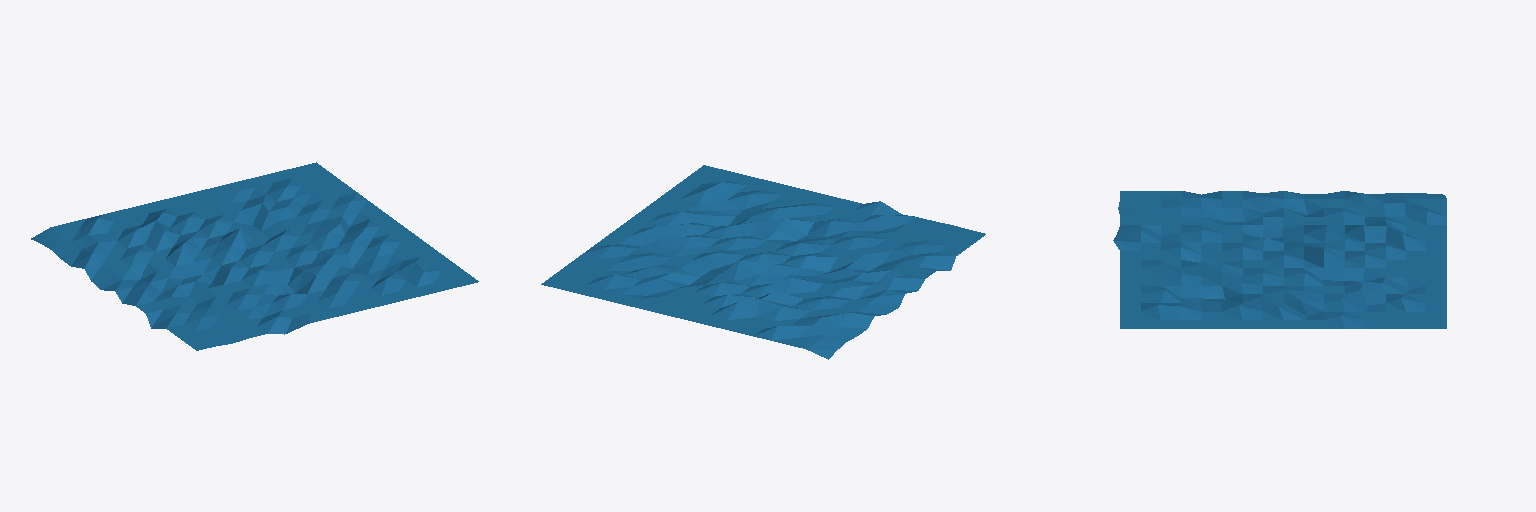
The model's file is ocean.obj.
The picture shows the model from 3 angles: view 1: azimuth 30°, elevation 25°; view 2: azimuth 150°, elevation 25°; view 3: azimuth 270°, elevation 25°; orthographic projection.
Parts seen in each view (by area): view 1: Plane; view 2: Plane; view 3: Plane.
Boxes of the visible parts, box(x1,y1,x2,y2) form: Plane: box(31, 162, 478, 350); Plane: box(541, 165, 985, 359); Plane: box(1113, 191, 1446, 328).
Bounding box in the file's own units: 16.06 × 1.07 × 16.14.